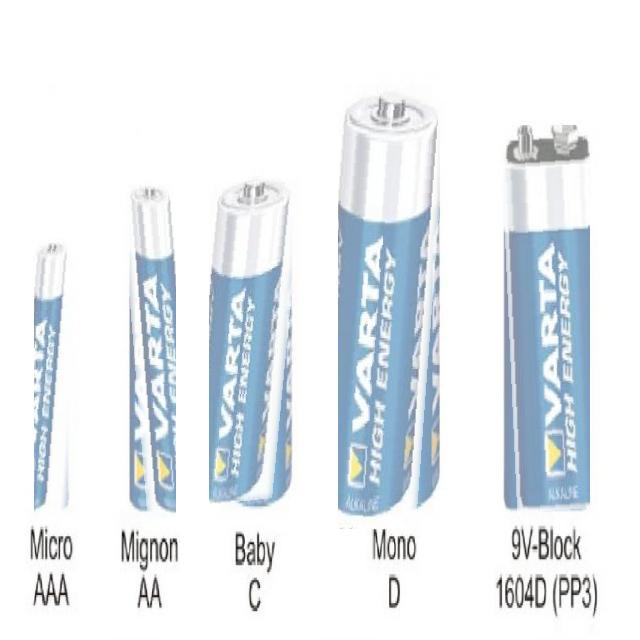battery: (338, 87, 448, 529), (500, 126, 590, 514), (209, 176, 304, 508), (120, 180, 176, 519), (34, 232, 90, 530)
